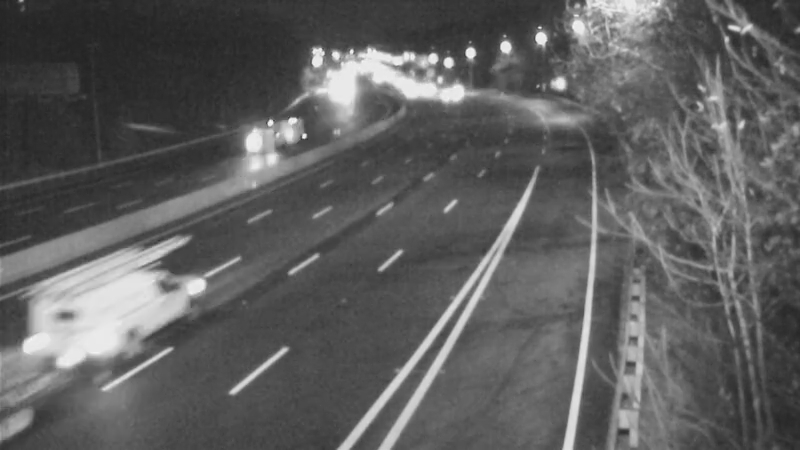vehicle: (22, 277, 132, 387), (221, 111, 301, 191)
